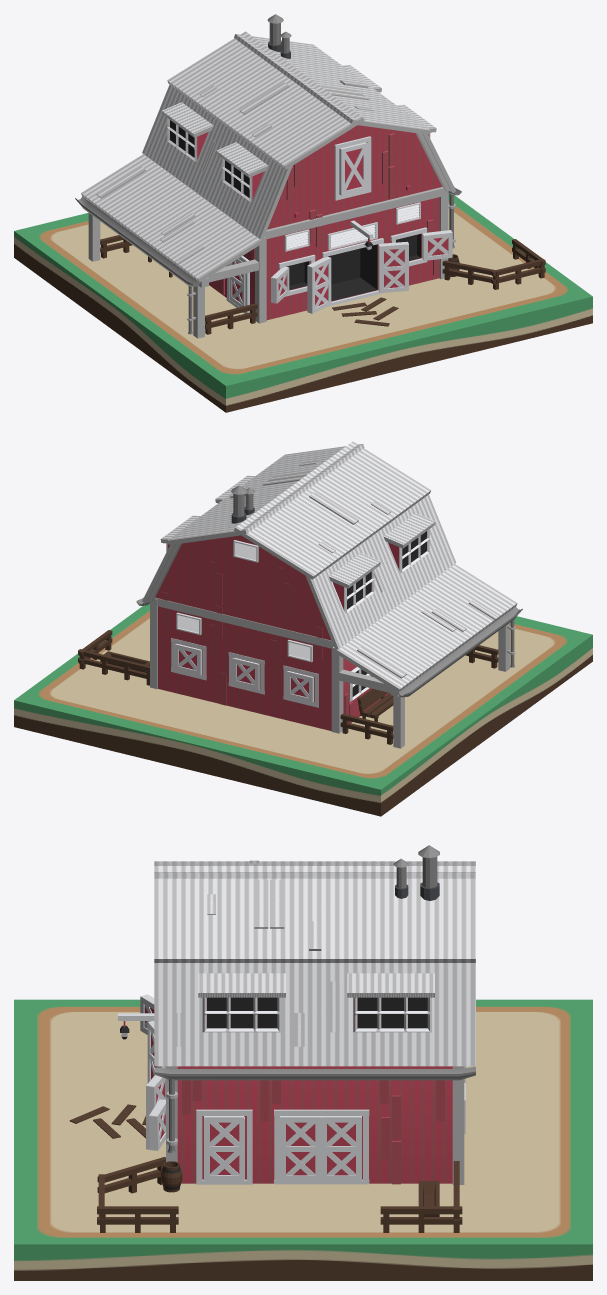
Rendered from Barn Open.gltf.
3 renders of one model, top to bottom at view 1: azimuth 30°, elevation 25°; view 2: azimuth 150°, elevation 25°; view 3: azimuth 270°, elevation 25°, orthographic. The views are drawn at different scales.
Visible parts, largest first — view 1: node-0; view 2: node-0; view 3: node-0.
Part boxes in pixels (bbox=[...]): node-0: bbox=[14, 14, 592, 412]; node-0: bbox=[14, 441, 592, 816]; node-0: bbox=[14, 845, 592, 1280].
Bounding box in the file's own units: 9900 × 6141 × 9900.
1 material, 1 textured.
